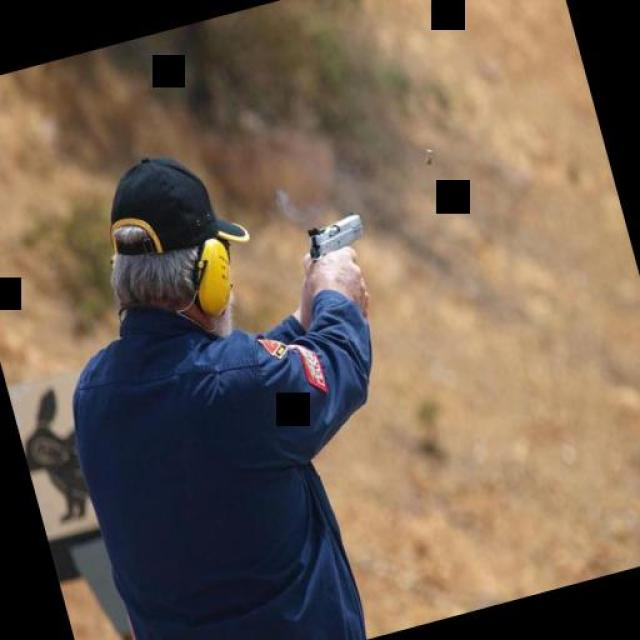gun: (300, 207, 370, 265)
